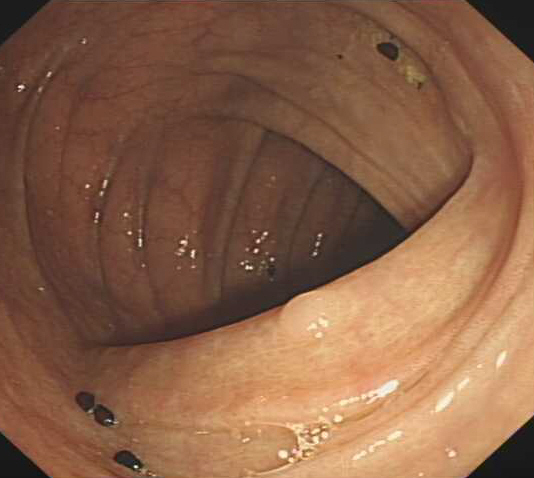adenoma: (280, 290, 354, 336)
